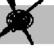not correct: (0, 0, 43, 45)
